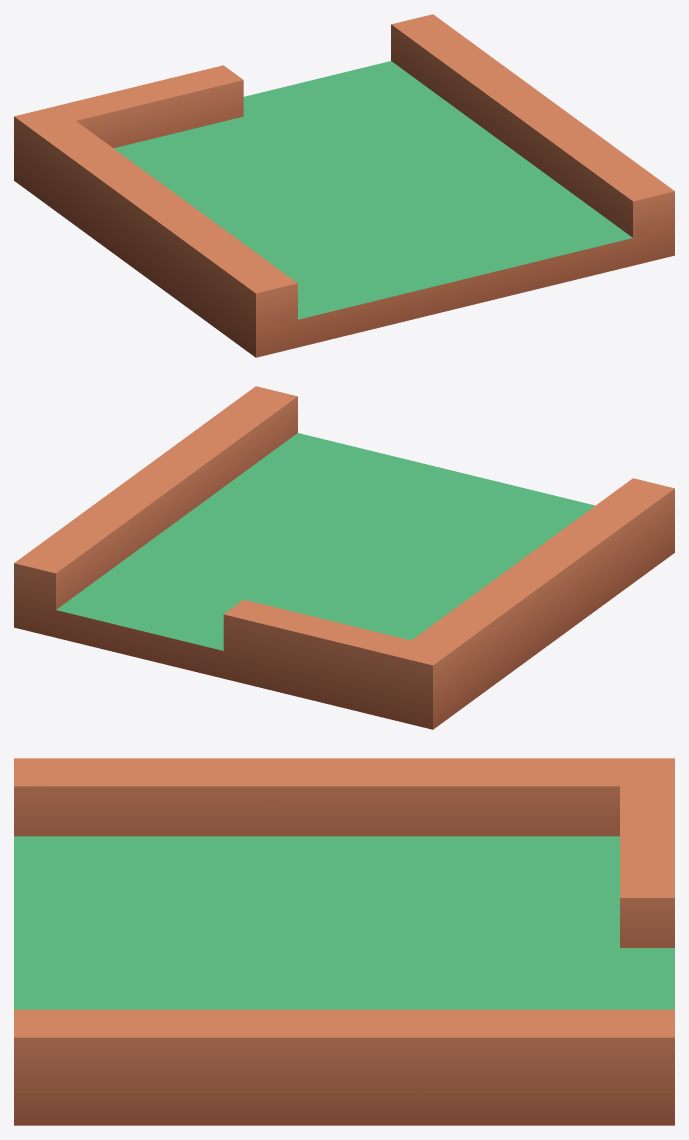
Rendered from wall-right.glb.
3 views of the same model, one above another, from view 1: azimuth 30°, elevation 25°; view 2: azimuth 150°, elevation 25°; view 3: azimuth 270°, elevation 25° (orthographic). The views are drawn at different scales.
Parts seen in each view (by area): view 1: wall-right; view 2: wall-right; view 3: wall-right.
Part boxes in pixels (x1,y1,x2,y2): wall-right: [14, 14, 674, 357]; wall-right: [14, 386, 674, 729]; wall-right: [14, 758, 674, 1125].
Bounding box in the file's own units: 0.9999 × 0.1467 × 0.9999.
1 material, 1 textured.
